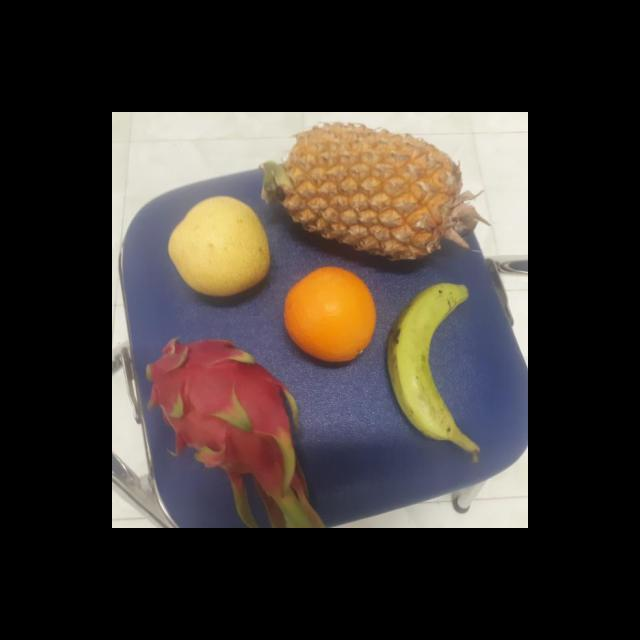banana: (384, 284, 474, 442)
guava: (164, 198, 270, 298), (280, 268, 378, 366)
pineapple: (266, 125, 470, 266)
pitaya: (144, 338, 305, 482)
